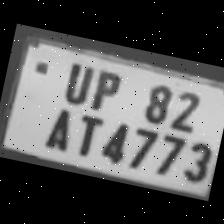2: (165, 84, 204, 132)
3: (176, 134, 216, 186)
4: (94, 112, 133, 166)
7: (148, 125, 186, 180), (121, 119, 158, 172)
8: (134, 76, 174, 126)
A: (37, 101, 77, 151)
P: (84, 62, 125, 113)
T: (68, 106, 104, 158)
U: (54, 56, 94, 106)
